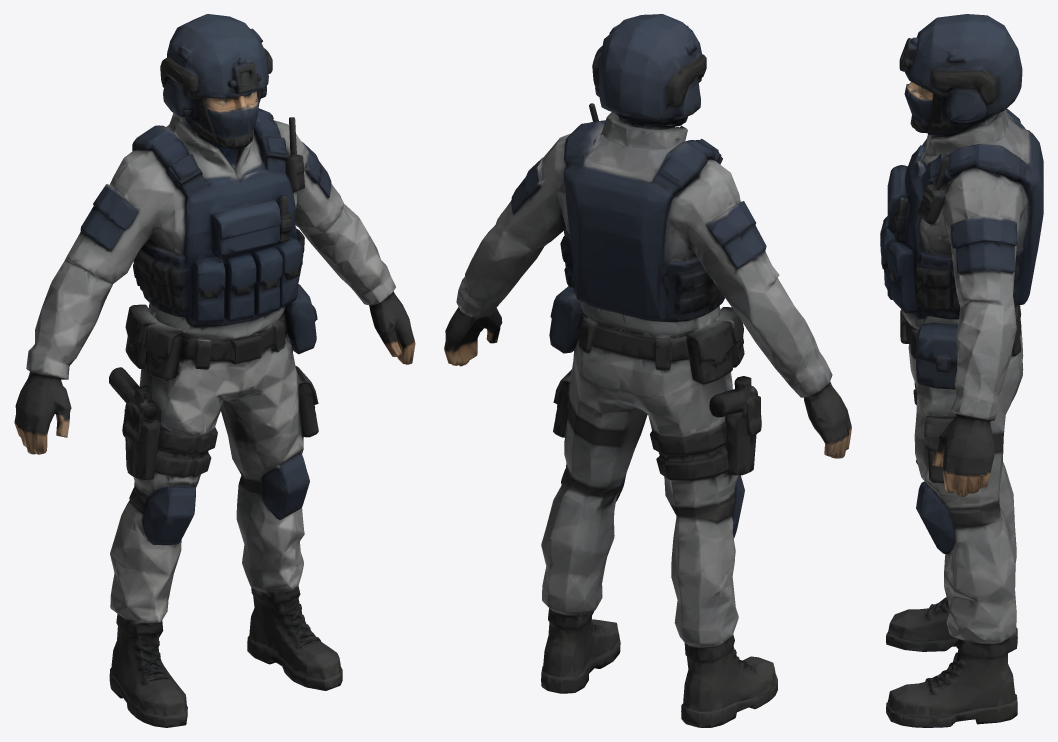
The model's file is enemy_variant.glb.
3 views of the same model, side by side, from view 1: azimuth 30°, elevation 25°; view 2: azimuth 150°, elevation 25°; view 3: azimuth 270°, elevation 25° (orthographic).
Parts seen in each view (by area): view 1: node_0; view 2: node_0; view 3: node_0.
Boxes of the visible parts, box(x1,y1,x2,y2) form: node_0: box(14, 14, 415, 727); node_0: box(444, 14, 851, 727); node_0: box(880, 14, 1043, 727).
Bounding box in the file's own units: 0.701 × 1.14 × 0.2552.
1 material, 1 textured.
